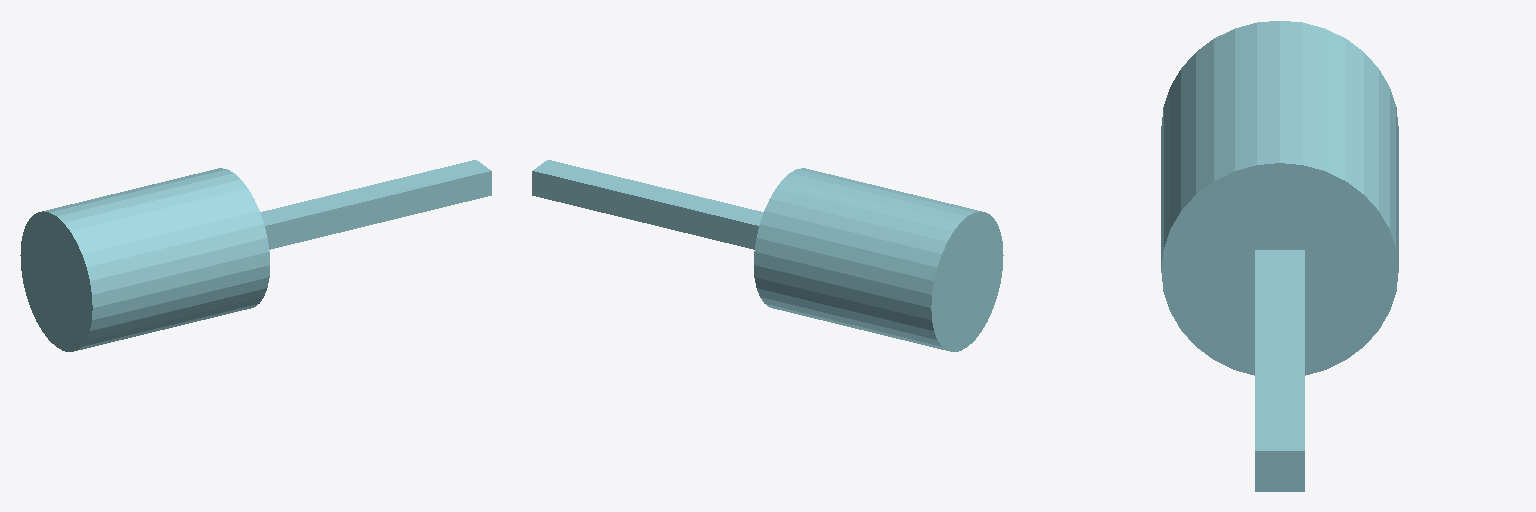
URDF robot description (cylinder_screwdriver_v3013):
<?xml version="1.0"?>
<robot name="cylinder_screwdriver_v3013">

  <link name="cylinder_screwdriver_v3013">
    <!-- Handle -->
    <visual>
      <origin xyz="0 0 0" rpy="0 1.5707963267948966 0"/>
      <geometry>
        <cylinder length="0.09329925764906137" radius="0.032839476632696846"/>
      </geometry>
      <material name="material">
        <color rgba="0.639 0.847 0.882 1.0"/>
      </material>
    </visual>
    <collision>
      <origin xyz="0 0 0" rpy="0 1.5707963267948966 0"/>
      <geometry>
        <cylinder length="0.09329925764906137" radius="0.032839476632696846"/>
      </geometry>
    </collision>

    <!-- Head -->
    <visual>
      <origin xyz="0.11220656442479421 0 0" rpy="0 0 0"/>
      <geometry>
        <box size="0.13111387120052703 0.013996223582560332 0.012460766077877146"/>
      </geometry>
      <material name="material">
        <color rgba="0.639 0.847 0.882 1.0"/>
      </material>
    </visual>
    <collision>
      <origin xyz="0.11220656442479421 0 0" rpy="0 0 0"/>
      <geometry>
        <box size="0.13111387120052703 0.013996223582560332 0.012460766077877146"/>
      </geometry>
    </collision>

    <inertial>
      <density value="400.0"/>
    </inertial>
  </link>

</robot>

--- Facts derived from the render (not from the file) ---
The picture shows the robot from 3 angles, left to right: view 1: azimuth 30°, elevation 25°; view 2: azimuth 150°, elevation 25°; view 3: azimuth 270°, elevation 25°; orthographic projection.
Robot: cylinder_screwdriver_v3013 — 1 links, 0 joints (none); root link cylinder_screwdriver_v3013; default pose: all joints at 0.
Visible links, largest first — view 1: cylinder_screwdriver_v3013; view 2: cylinder_screwdriver_v3013; view 3: cylinder_screwdriver_v3013.
Boxes of the visible links, x1,y1,x2,y2 form: cylinder_screwdriver_v3013: (20,160,491,351); cylinder_screwdriver_v3013: (532,160,1003,351); cylinder_screwdriver_v3013: (1161,21,1398,491).
Size in the robot's own frame: 0.2244 by 0.0657 by 0.0657 metres.
Geometry: primitives only (box / cylinder / sphere), no mesh files.
